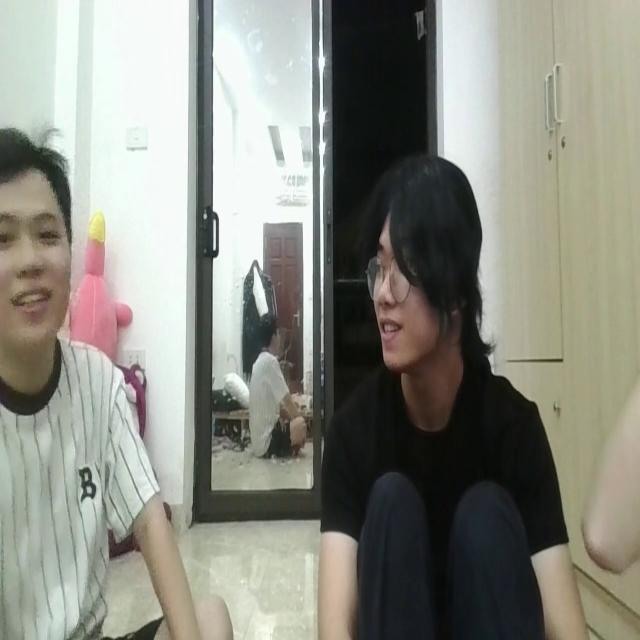extra_person: (0, 108, 238, 640), (247, 306, 306, 468)
student: (320, 142, 592, 640)
